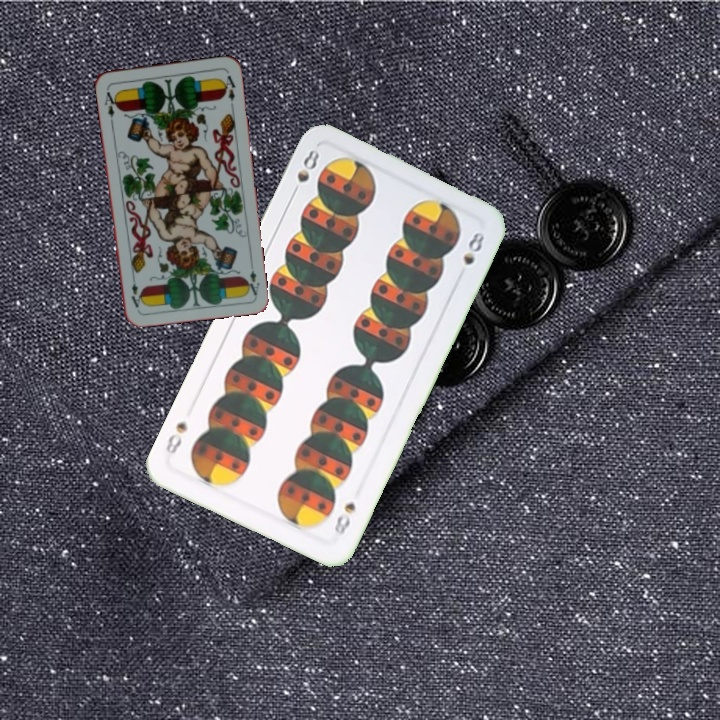EA: (100, 84, 120, 125), (242, 257, 262, 298)
S8: (287, 145, 322, 200), (330, 498, 358, 538)
